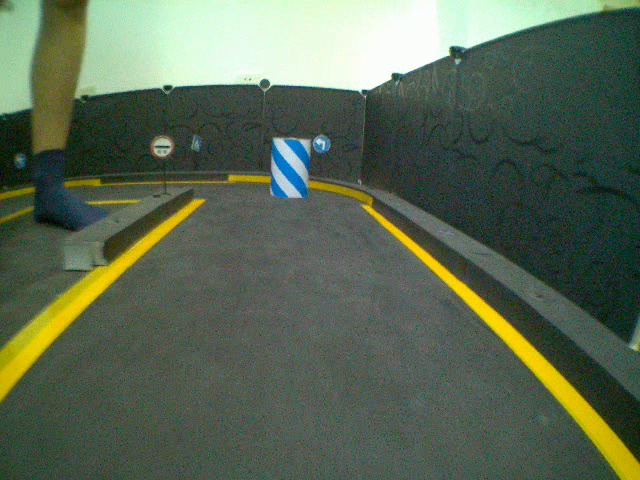bucket: (269, 136, 312, 200)
